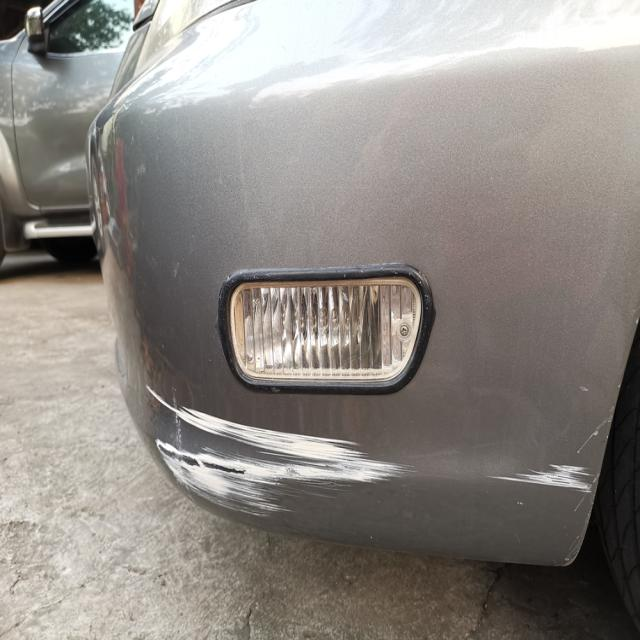scratch: (142, 383, 418, 516), (485, 459, 600, 496)
